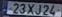2: (42, 4, 50, 15), (12, 2, 19, 14)
3: (18, 3, 26, 14)
4: (49, 4, 56, 16)
J: (34, 4, 42, 15)
X: (26, 3, 35, 15)
